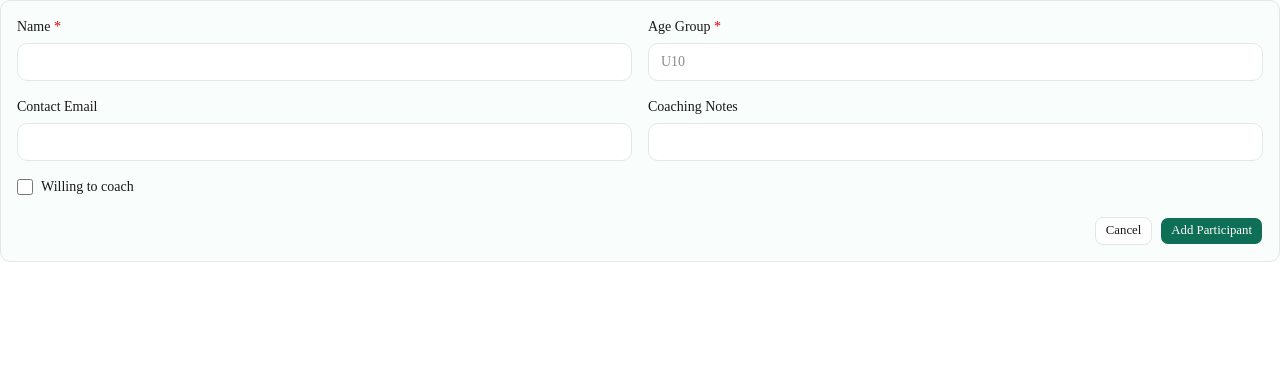
Test case: ParticipantForm › coach linked-child dropdown › shows the linked child dropdown when the coach checkbox is checked
Click the checkbox labelled "Willing to coach".
click(25, 187)  # box [17,179,33,195]
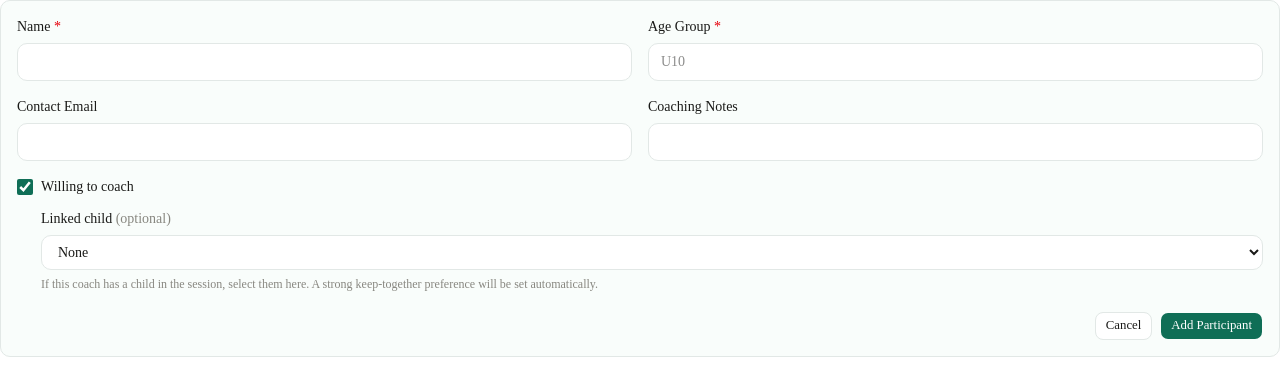
Now the dropdown labelled "Linked child (optional)" is shown, box [41,235,1263,270]
